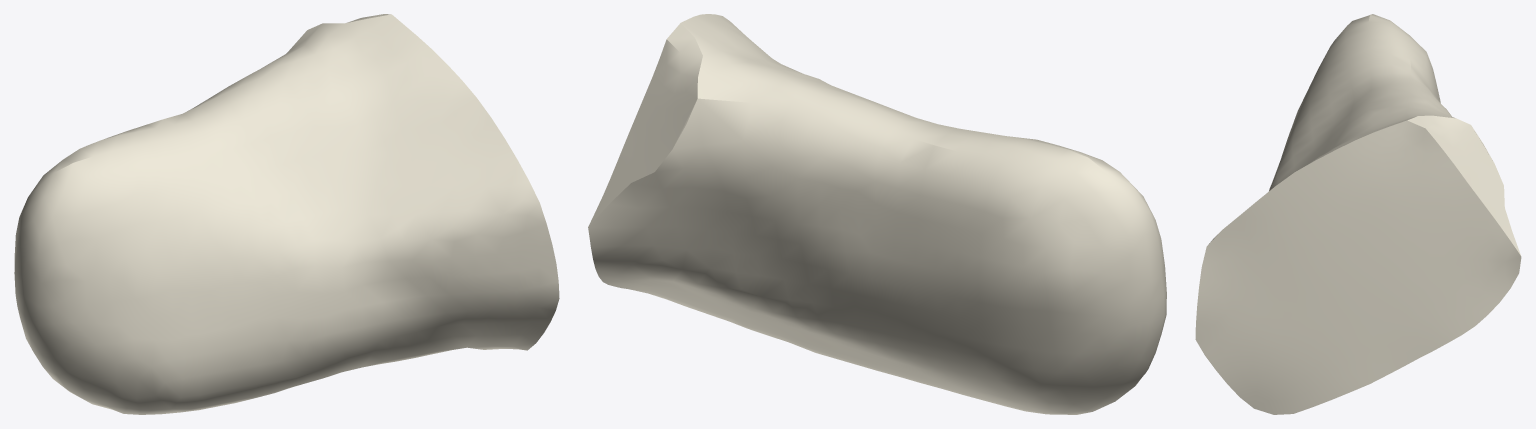
File: fma16184_mm2367m.glb
3 renders of one model, left to right at view 1: azimuth 30°, elevation 25°; view 2: azimuth 150°, elevation 25°; view 3: azimuth 270°, elevation 25°, orthographic. The views are drawn at different scales.
Visible parts, largest first — view 1: FMA16184_MM2367M; view 2: FMA16184_MM2367M; view 3: FMA16184_MM2367M.
Boxes of the visible parts, box(x1,y1,x2,y2) form: FMA16184_MM2367M: box(14, 14, 559, 414); FMA16184_MM2367M: box(588, 14, 1166, 414); FMA16184_MM2367M: box(1195, 14, 1521, 414).
Size of the model in its own units: 0.0143 by 0.0091 by 0.00973.
